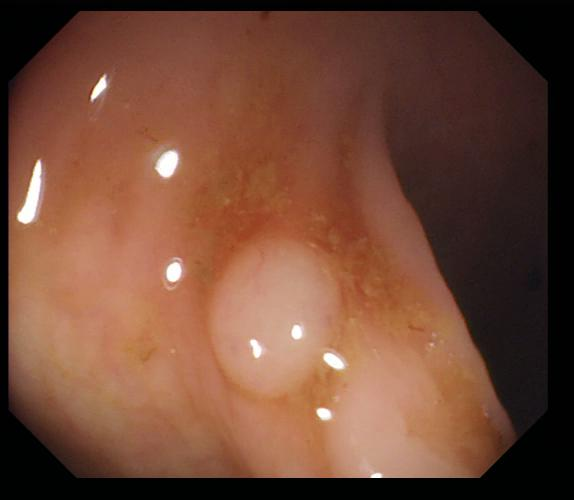polyp: (327, 306, 471, 479), (210, 232, 342, 399)
